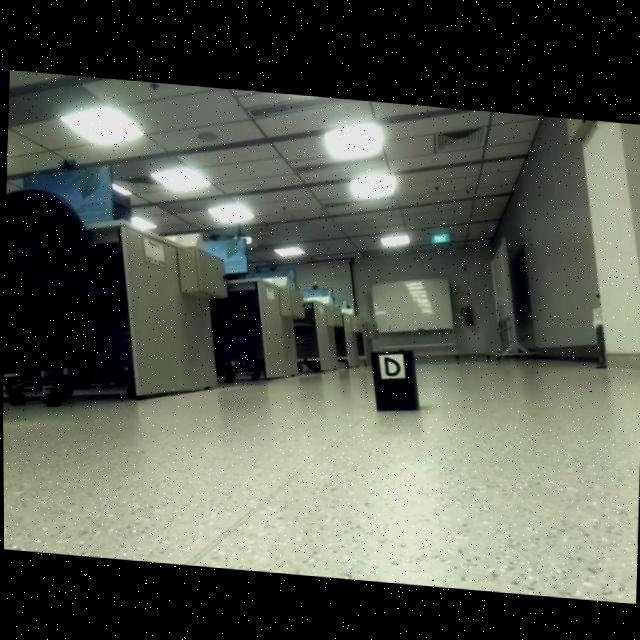D: (382, 352, 400, 372)
